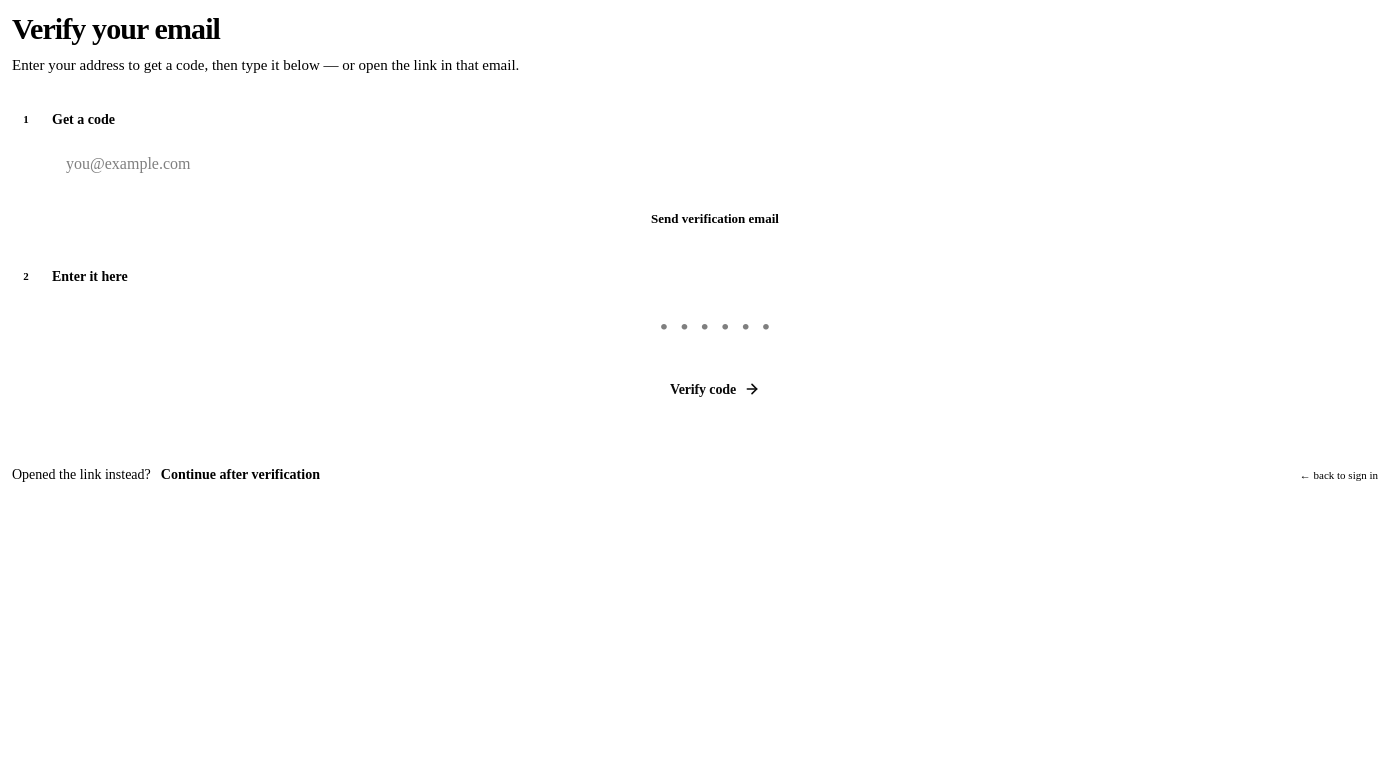
Test: auth forms › refreshes verification status without trusting the cached session
This screenshot has width=1390, height=780.
Step 1. Click the button "Continue after verification" → (240, 475), box [155,459,326,491]
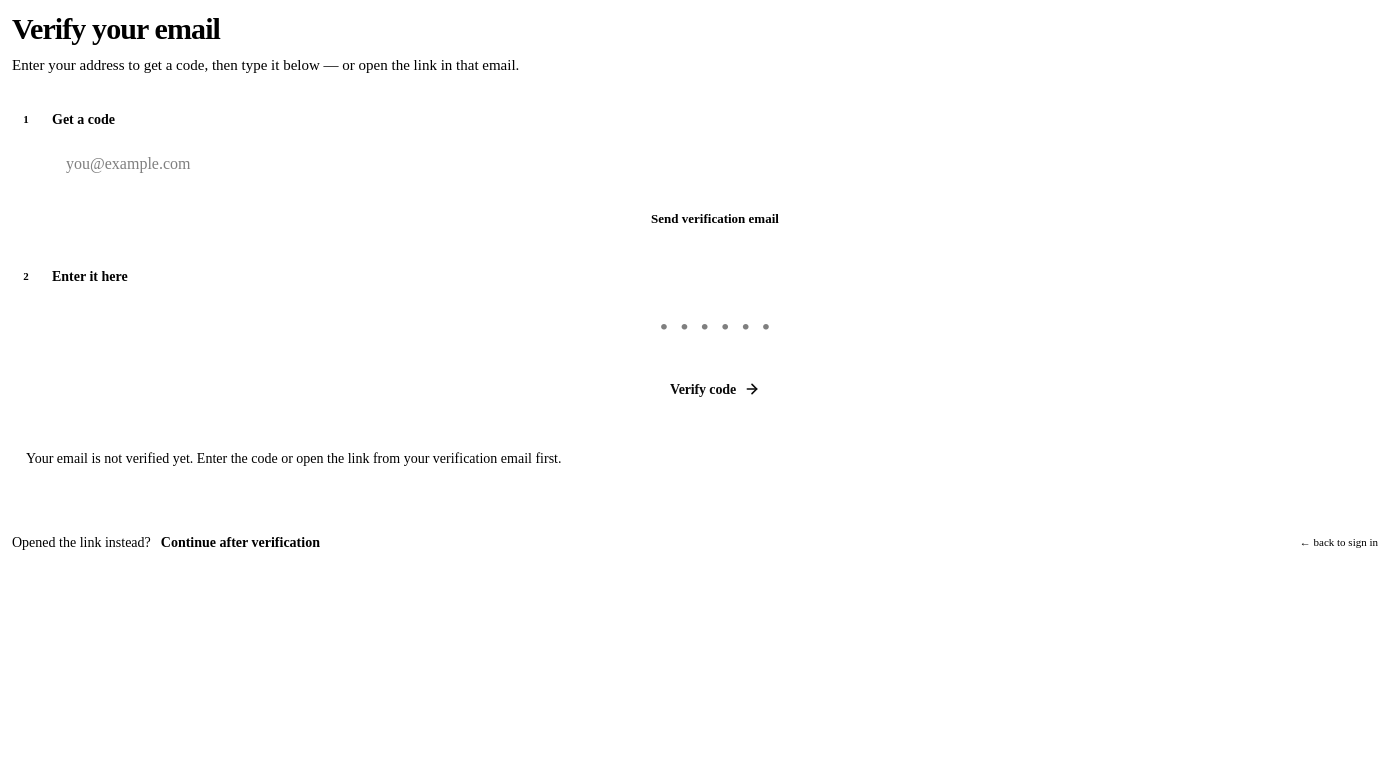
Result: the text "Your email is not verified yet. Enter the code or open the link from your verification email first." is shown at [26,451,562,466]
